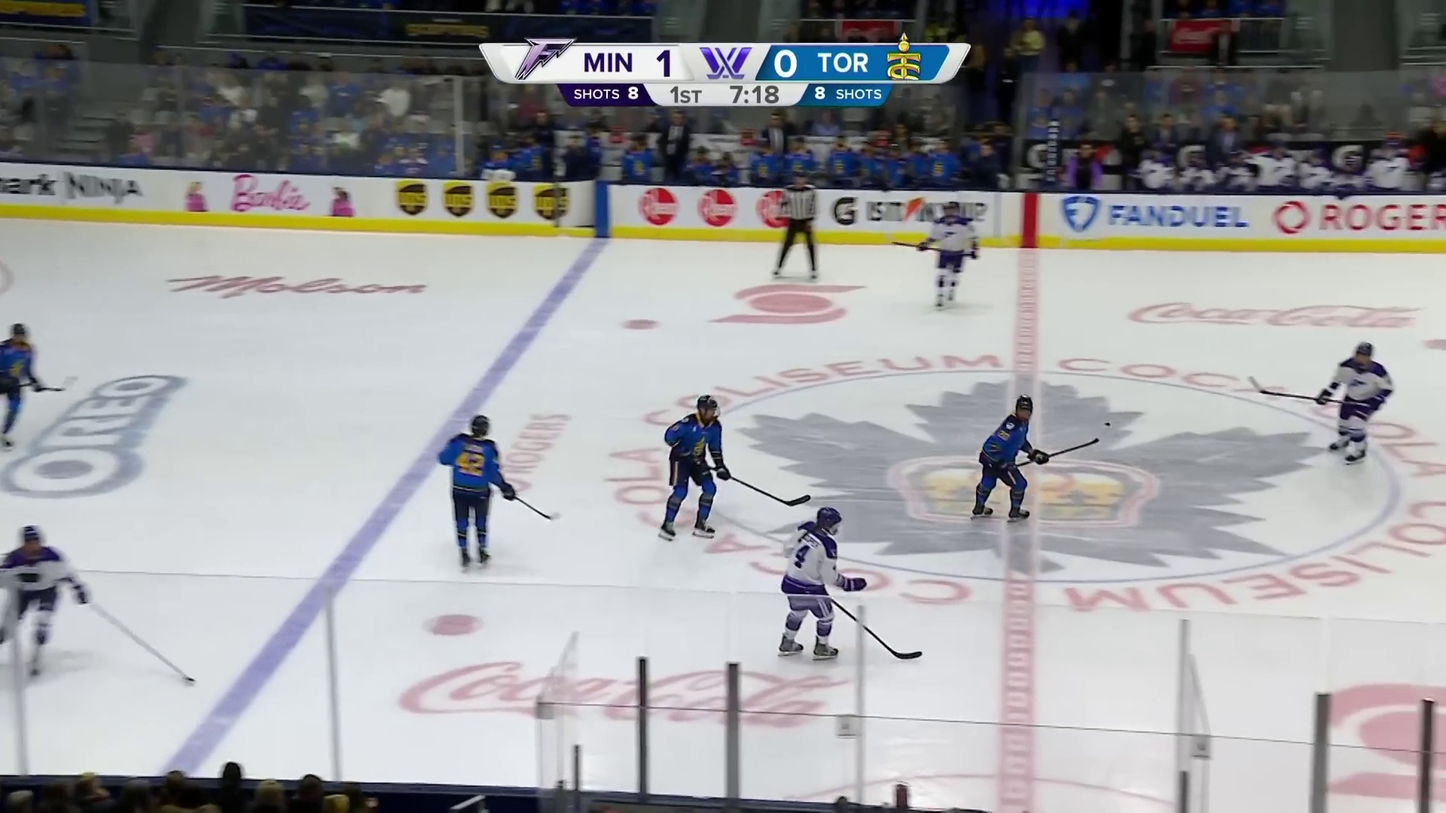player: (773, 502, 868, 660), (433, 411, 516, 570), (656, 393, 729, 542), (972, 394, 1053, 523), (1314, 340, 1396, 465), (917, 201, 979, 309)
puck: (1102, 422, 1112, 427)
referee: (771, 170, 820, 279)
